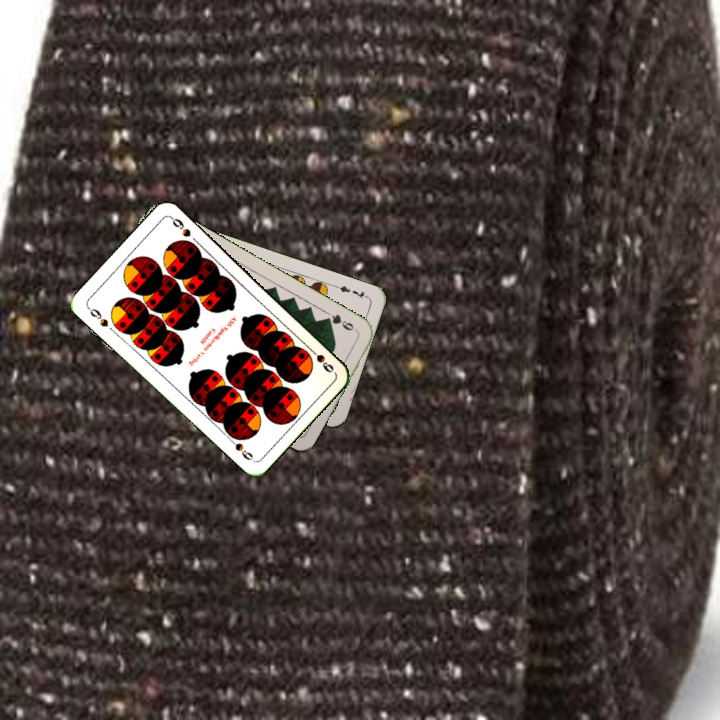E7: (331, 281, 371, 301)
G9: (321, 310, 360, 334)
S9: (304, 343, 336, 375), (83, 303, 111, 330)
